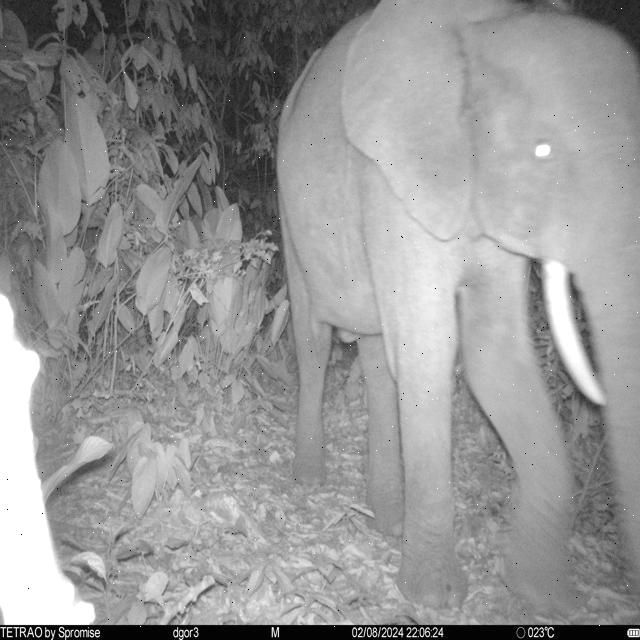ear: (340, 2, 528, 242)
elephant: (274, 1, 640, 616)
tusk: (541, 260, 608, 406)
